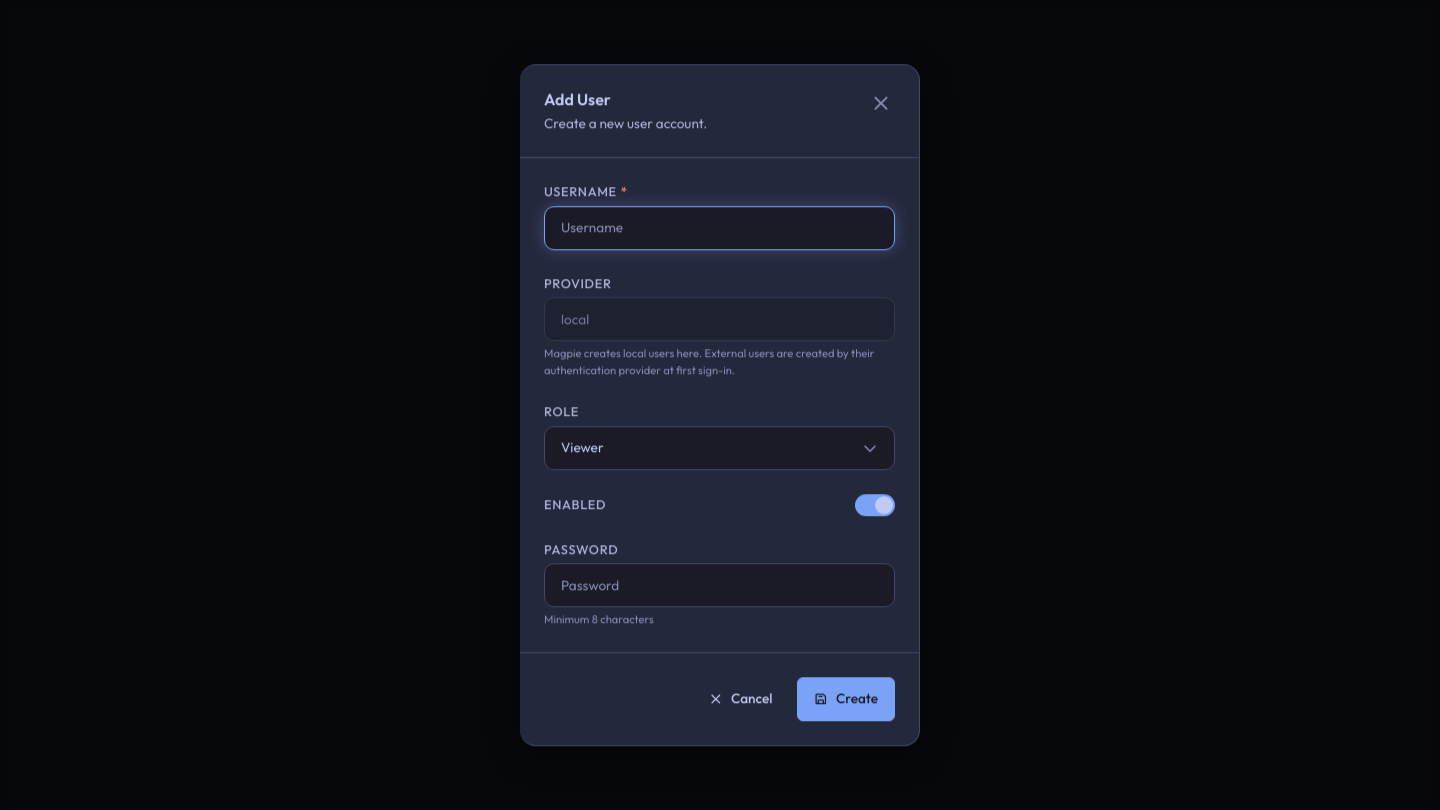
Test: UserForm inline validation › shows username error inline when username is cleared after typing
Type "a" into the field labelled "Username *" at (720, 228), box [545,210,894,246]
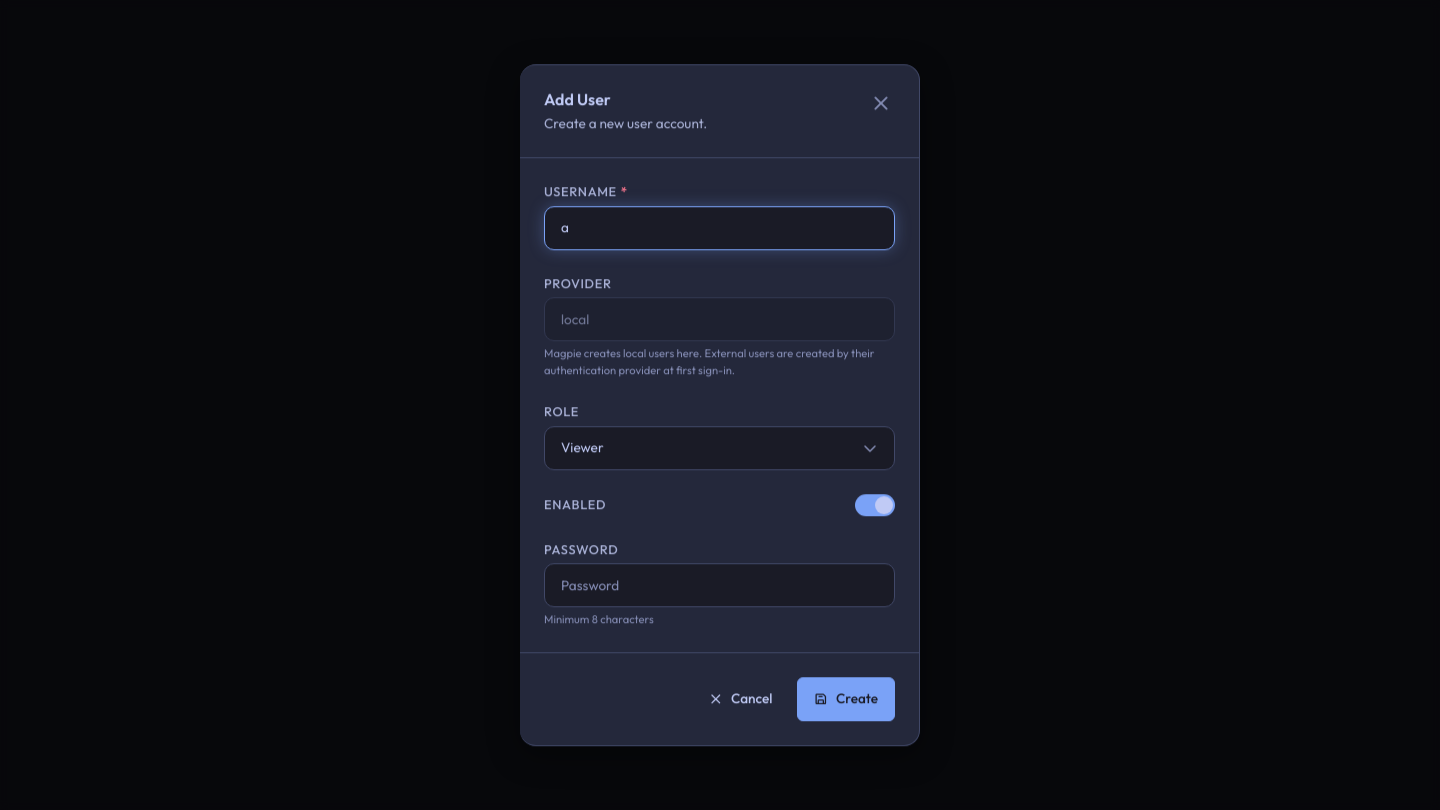
Clear the field labelled "Username *" at (720, 228), box [545,210,894,246]
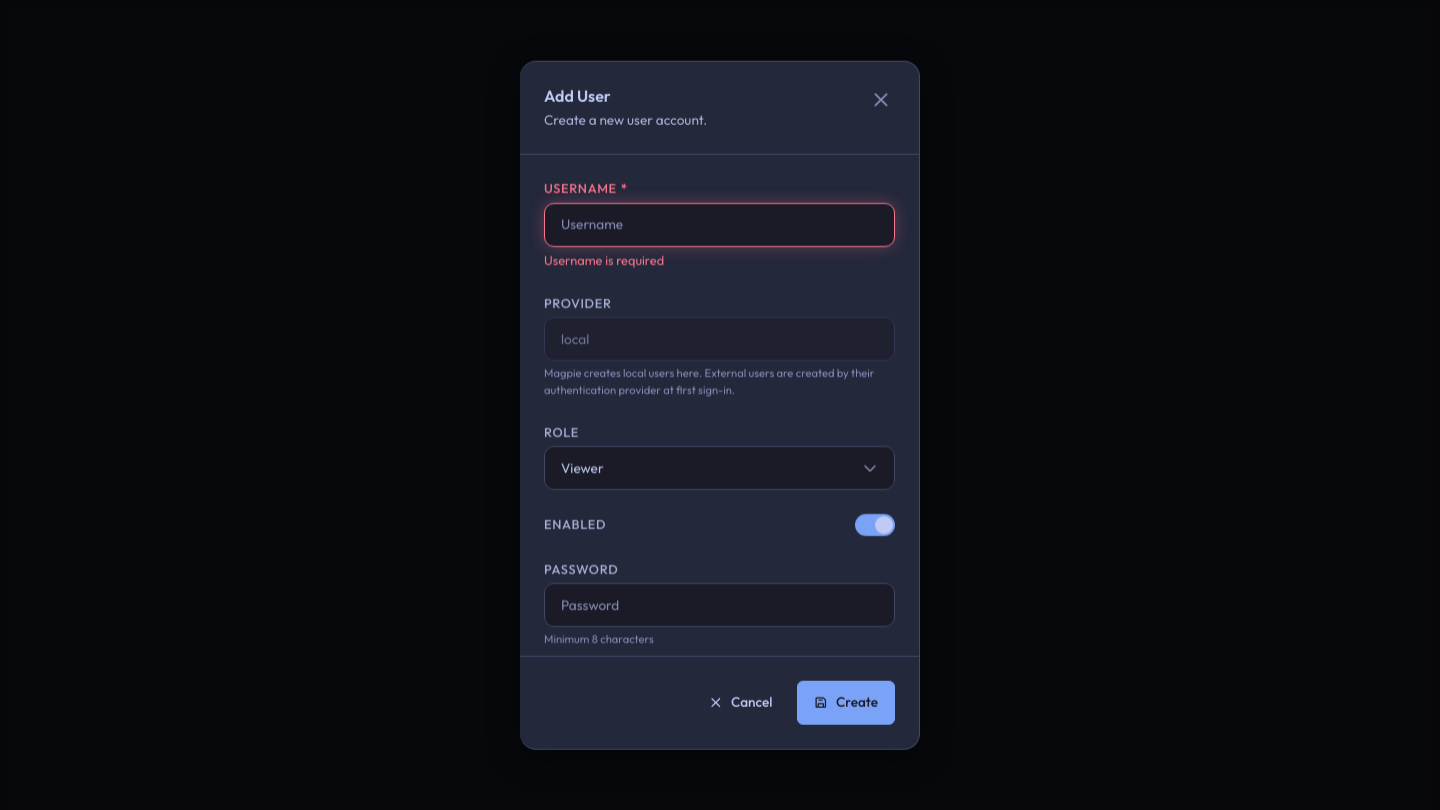
expect the message reads "Username is required": met, box [544,251,664,267]
